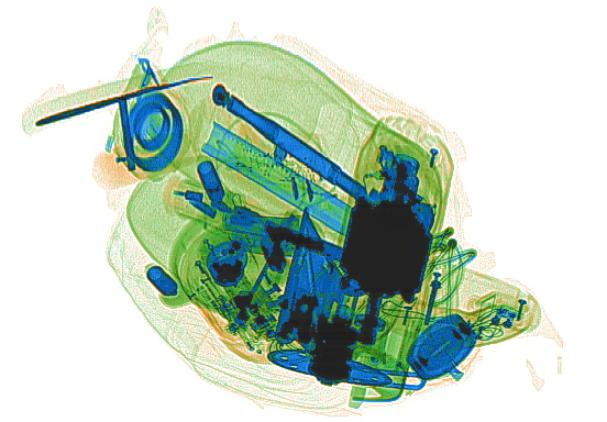knife: (188, 93, 371, 243)
